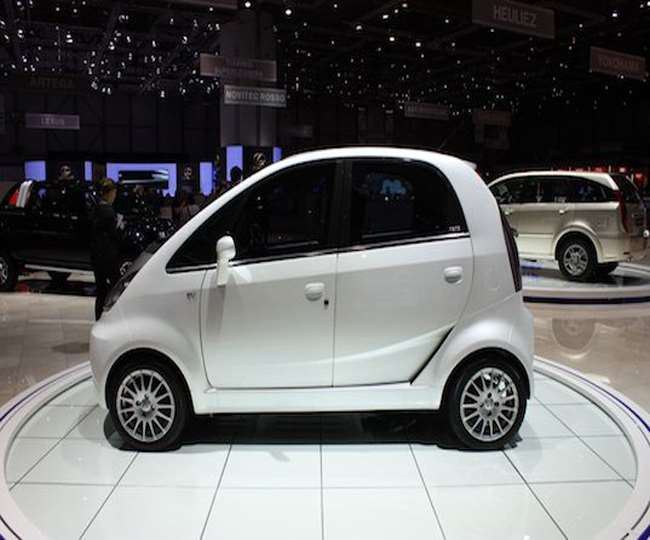Nano: (86, 142, 539, 455)
